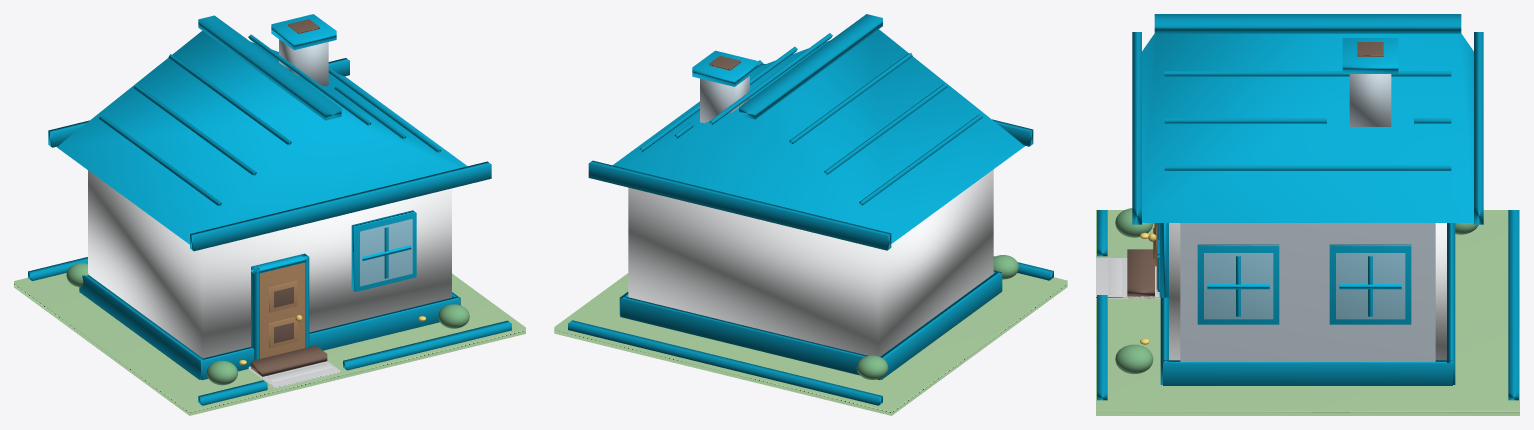
Rendered from casa_detallada_darkBlue.glb.
3 renders of one model, left to right at view 1: azimuth 30°, elevation 25°; view 2: azimuth 150°, elevation 25°; view 3: azimuth 270°, elevation 25°, orthographic. The views are drawn at different scales.
Visible parts, largest first — view 1: Casa_Techo_Rojo_Detallado, Casa_Paredes_Suaves, Casa_Grama_Base_Redondeada, Casa_Techo_Fascia_Frontal, Casa_Zocalo_Frontal_Rojo, Casa_Techo_Cumbrera_Roja, Casa_Zocalo_Izquierdo_Rojo, Ventana_Frontal_Principal_Cristal, Puerta_Cuerpo_Madera, Casa_Borde_Base_Frontal_Derecho, Ventana_Frontal_Principal_Marco_Azul, Casa_Chimenea_Cuerpo (+17 smaller); view 2: Casa_Techo_Rojo_Detallado, Casa_Paredes_Suaves, Casa_Grama_Base_Redondeada, Casa_Techo_Fascia_Trasero, Casa_Zocalo_Trasero_Rojo, Casa_Borde_Base_Trasero, Casa_Techo_Cumbrera_Roja, Casa_Zocalo_Izquierdo_Rojo, Casa_Chimenea_Cuerpo, Casa_Chimenea_Tapa_Roja, Casa_Techo_Linea_Teja_Der_1, Casa_Techo_Linea_Teja_Izq_2 (+5 smaller); view 3: Casa_Techo_Rojo_Detallado, Casa_Grama_Base_Redondeada, Casa_Pared_Lateral_Azulada, Casa_Zocalo_Derecho_Rojo, Casa_Techo_Cumbrera_Roja, Ventana_Lateral_Frontal_Cristal, Ventana_Lateral_Trasera_Cristal, Casa_Paredes_Suaves, Casa_Chimenea_Cuerpo, Ventana_Lateral_Frontal_Marco_Azul, Ventana_Lateral_Trasera_Marco_Azul, Casa_Borde_Base_Trasero (+17 smaller).
Part boxes in pixels (x1=…): Casa_Techo_Rojo_Detallado: x1=57, y1=30, x2=467, y2=244; Casa_Paredes_Suaves: x1=88, y1=170, x2=451, y2=358; Casa_Grama_Base_Redondeada: x1=14, y1=273, x2=525, y2=415; Casa_Techo_Fascia_Frontal: x1=190, y1=161, x2=491, y2=251; Casa_Zocalo_Frontal_Rojo: x1=200, y1=296, x2=459, y2=380; Casa_Techo_Cumbrera_Roja: x1=198, y1=15, x2=341, y2=120; Casa_Zocalo_Izquierdo_Rojo: x1=79, y1=275, x2=204, y2=379; Ventana_Frontal_Principal_Cristal: x1=360, y1=219, x2=412, y2=286; Puerta_Cuerpo_Madera: x1=260, y1=262, x2=305, y2=358; Casa_Borde_Base_Frontal_Derecho: x1=343, y1=320, x2=511, y2=370; Ventana_Frontal_Principal_Marco_Azul: x1=351, y1=210, x2=416, y2=291; Casa_Chimenea_Cuerpo: x1=279, y1=39, x2=328, y2=86; Casa_Techo_Rojo_Detallado: x1=613, y1=29, x2=1024, y2=243; Casa_Paredes_Suaves: x1=628, y1=169, x2=993, y2=356; Casa_Grama_Base_Redondeada: x1=554, y1=273, x2=1067, y2=415; Casa_Techo_Fascia_Trasero: x1=588, y1=160, x2=891, y2=250; Casa_Zocalo_Trasero_Rojo: x1=620, y1=296, x2=879, y2=379; Casa_Borde_Base_Trasero: x1=568, y1=320, x2=882, y2=405; Casa_Techo_Cumbrera_Roja: x1=739, y1=14, x2=882, y2=119; Casa_Zocalo_Izquierdo_Rojo: x1=880, y1=272, x2=1002, y2=379; Casa_Chimenea_Cuerpo: x1=700, y1=76, x2=749, y2=122; Casa_Chimenea_Tapa_Roja: x1=692, y1=50, x2=757, y2=86; Casa_Techo_Linea_Teja_Der_1: x1=709, y1=33, x2=832, y2=124; Casa_Techo_Linea_Teja_Izq_2: x1=824, y1=83, x2=947, y2=174; Casa_Techo_Rojo_Detallado: x1=1142, y1=33, x2=1473, y2=222; Casa_Grama_Base_Redondeada: x1=1096, y1=210, x2=1519, y2=415; Casa_Pared_Lateral_Azulada: x1=1180, y1=223, x2=1435, y2=361; Casa_Zocalo_Derecho_Rojo: x1=1163, y1=360, x2=1452, y2=385; Casa_Techo_Cumbrera_Roja: x1=1154, y1=14, x2=1461, y2=33; Ventana_Lateral_Frontal_Cristal: x1=1204, y1=253, x2=1273, y2=319; Ventana_Lateral_Trasera_Cristal: x1=1336, y1=253, x2=1405, y2=319; Casa_Paredes_Suaves: x1=1169, y1=223, x2=1446, y2=360; Casa_Chimenea_Cuerpo: x1=1349, y1=74, x2=1391, y2=126; Ventana_Lateral_Frontal_Marco_Azul: x1=1197, y1=244, x2=1279, y2=324; Ventana_Lateral_Trasera_Marco_Azul: x1=1329, y1=244, x2=1411, y2=324; Casa_Borde_Base_Trasero: x1=1508, y1=210, x2=1518, y2=400.
Bounding box in the file's own units: 1.35 × 0.9689 × 1.22.
